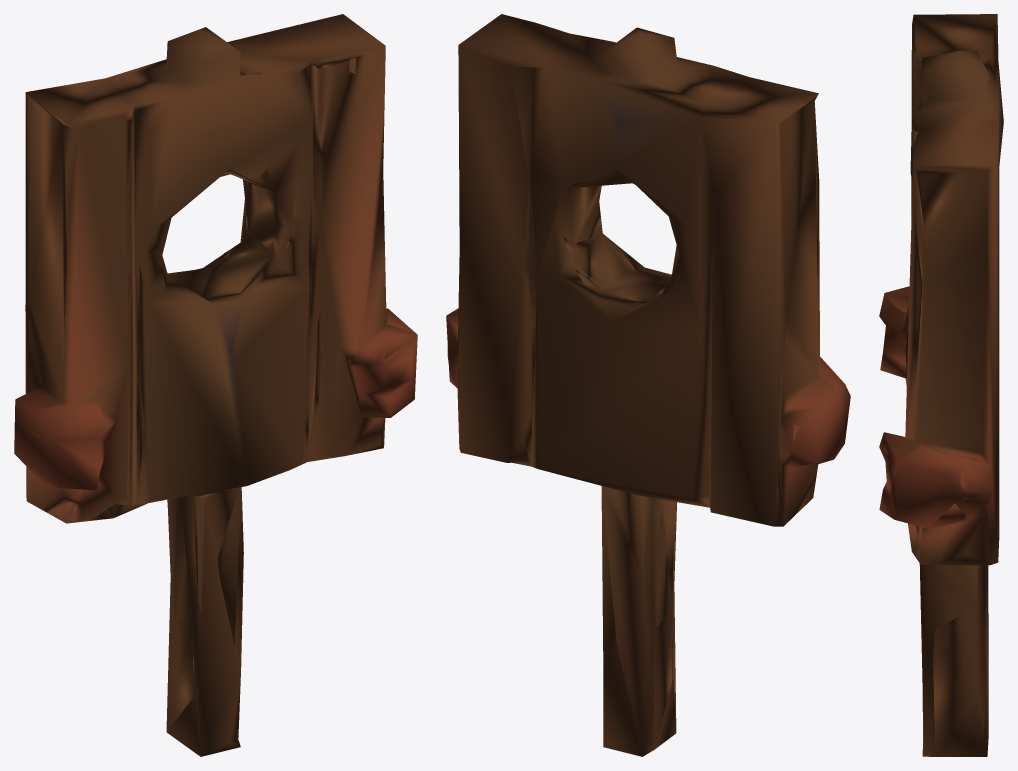
File: gen3d-pillory-lod1.glb
The picture shows the model from 3 angles, left to right: view 1: azimuth 30°, elevation 25°; view 2: azimuth 150°, elevation 25°; view 3: azimuth 270°, elevation 25°; orthographic projection.
Visible parts, largest first — view 1: part_0; view 2: part_0; view 3: part_0.
Part boxes in pixels (box(x1,y1,x2,y2)): part_0: box(14, 14, 417, 756); part_0: box(446, 14, 850, 756); part_0: box(879, 14, 1003, 756).
Size of the model in its own units: 0.5535 by 0.9984 by 0.1622.
